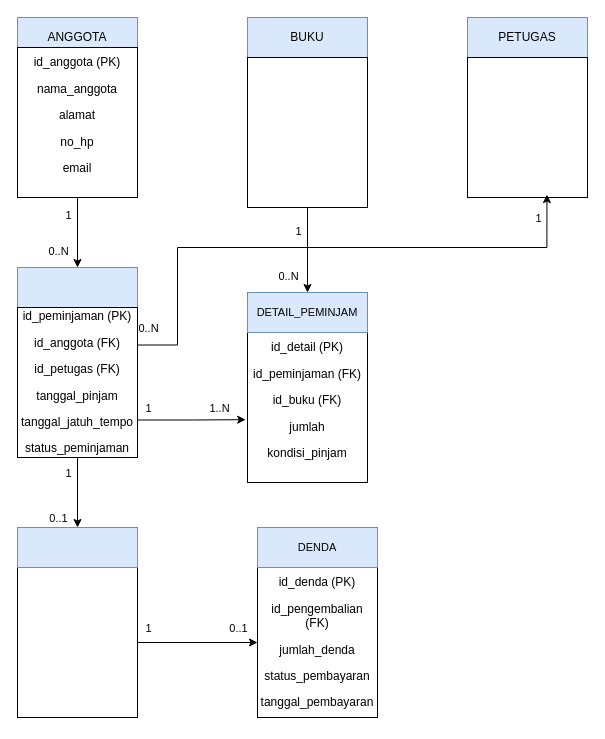
The diagram is 605 pixels wide and 739 high, and some of its shapes have lost their labels. The shapes that lost their labels are listed below. From the top down, each one's centre as x and y in pixels, then its label:
point (307, 132): id_buku (PK) judul_buku penulis penerbit tahun_terbit stok
point (527, 127): id_petugas (PK) nama_petugas username password peran
point (77, 287): PEMINJAMAN
point (77, 547): PENGEMBALIAN
point (77, 642): id_pengembalian (PK) id_peminjaman (FK) tanggal_kembali denda kondisi_kembali
